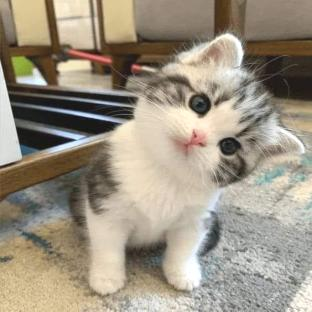Animal: (70, 33, 305, 295)
